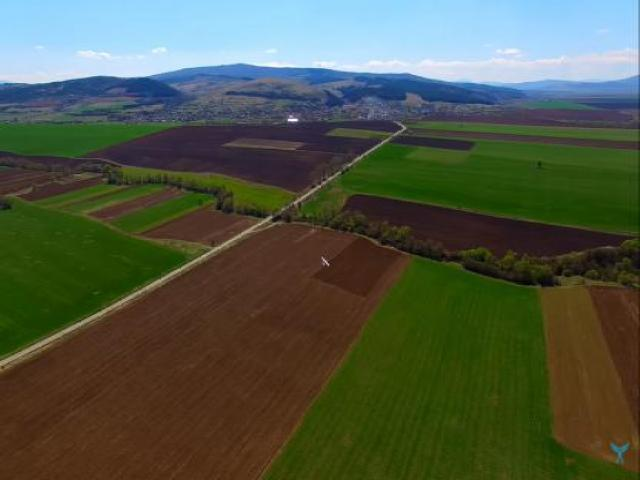uav: (316, 250, 336, 273)
